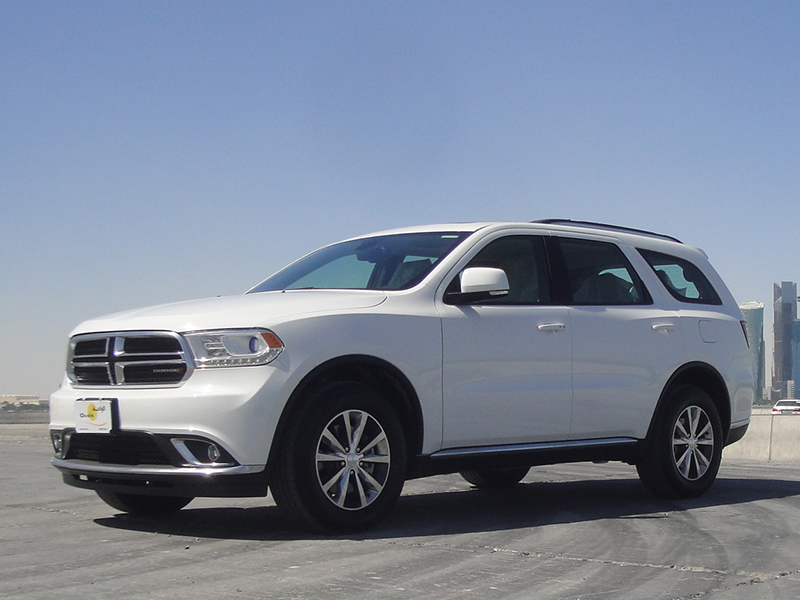other: (47, 217, 755, 547)
